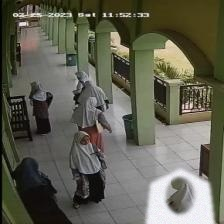Mukena: (143, 168, 217, 224)
